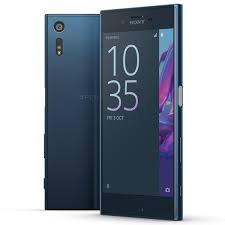sony: (98, 1, 185, 222), (43, 10, 105, 207)
